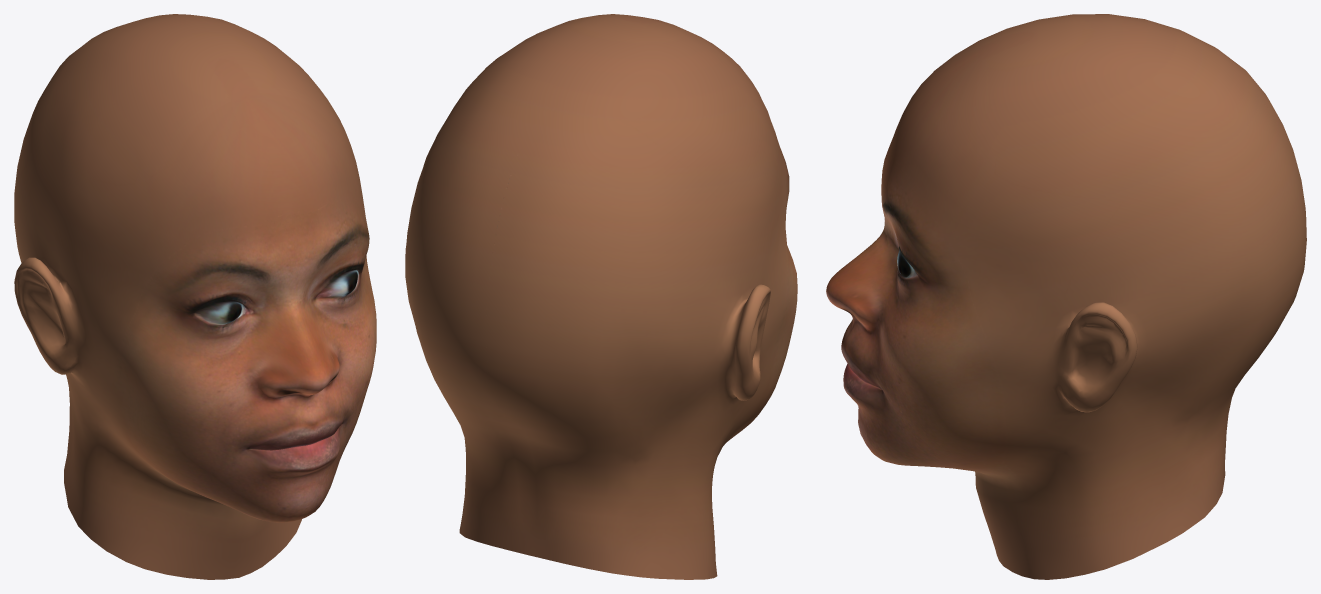
File: v332_obj_ModifierLookLeft.obj
3 renders of one model, left to right at view 1: azimuth 30°, elevation 25°; view 2: azimuth 150°, elevation 25°; view 3: azimuth 270°, elevation 25°, orthographic. The views are drawn at different scales.
Visible parts, largest first — view 1: HeadHires; view 2: HeadHires; view 3: HeadHires.
Boxes of the visible parts, left/top/right/bottom form: HeadHires: left=14, top=14, right=376, bottom=579; HeadHires: left=405, top=14, right=797, bottom=579; HeadHires: left=826, top=14, right=1306, bottom=579.
Bounding box in the file's own units: 187 × 282 × 233.
